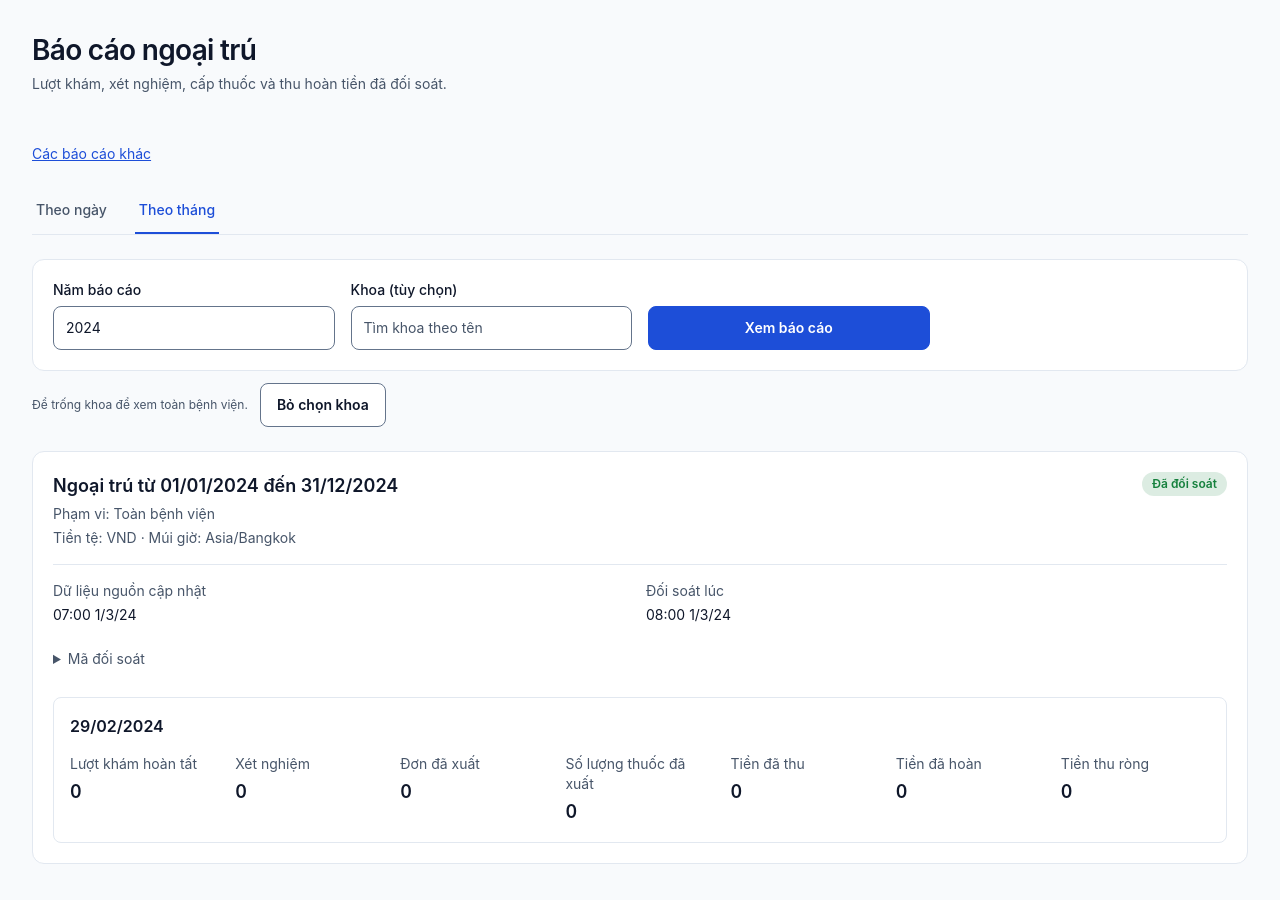
Test case: Outpatient report workspace › warns about an edited year while retaining the loaded monthly result
This screenshot has width=1280, height=900.
Expected: the element named "Kết quả báo cáo ngoại trú" is shown, [32,451,1248,864]
Replace the text in the number field labelled "Năm báo cáo" with "2025": (194, 328) [53,306,334,350]
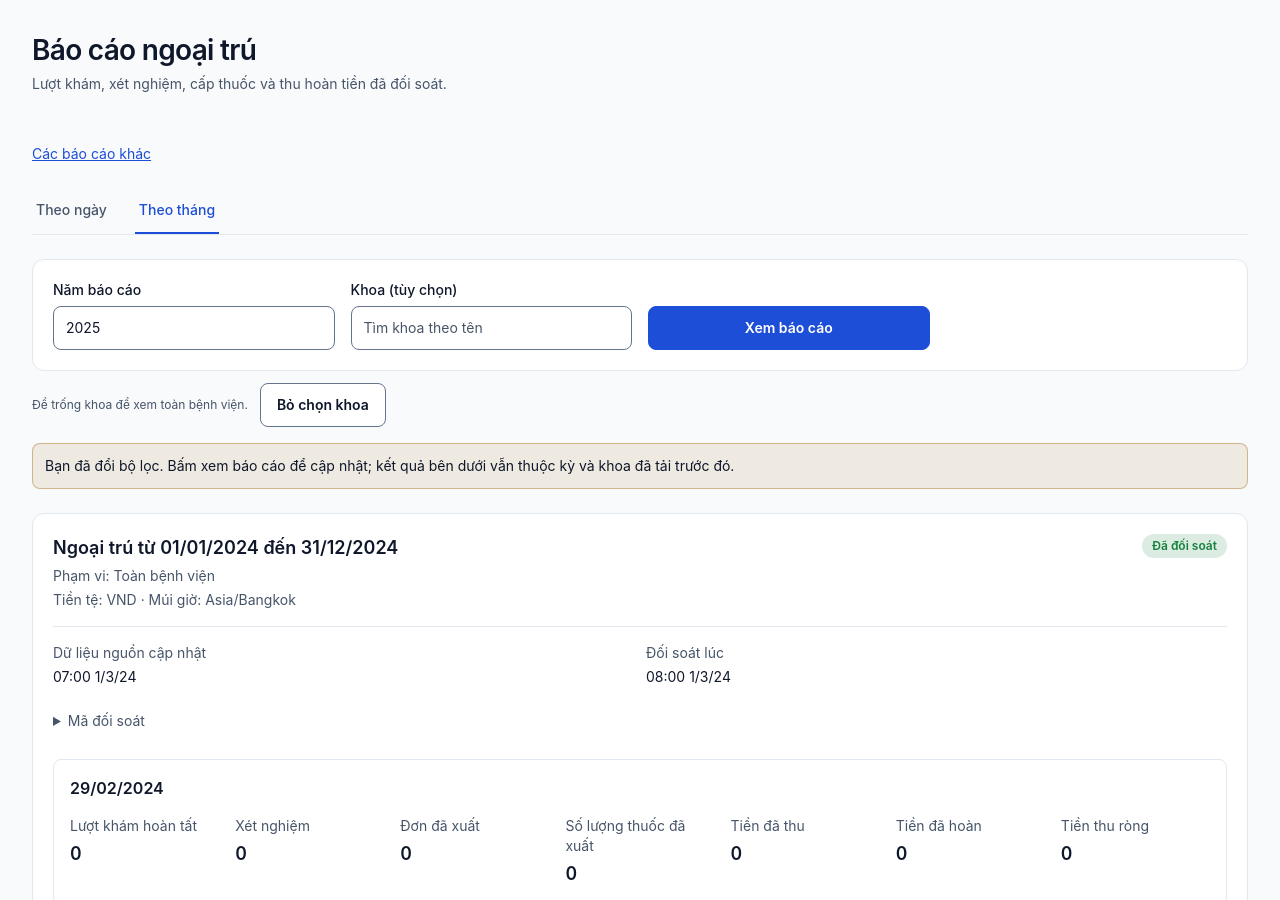
Expected: the text "Bạn đã đổi bộ lọc" is shown, [45,457,734,474]
Replace the text in the number field labelled "Năm báo cáo" with "2024": (194, 328) [53,306,334,350]
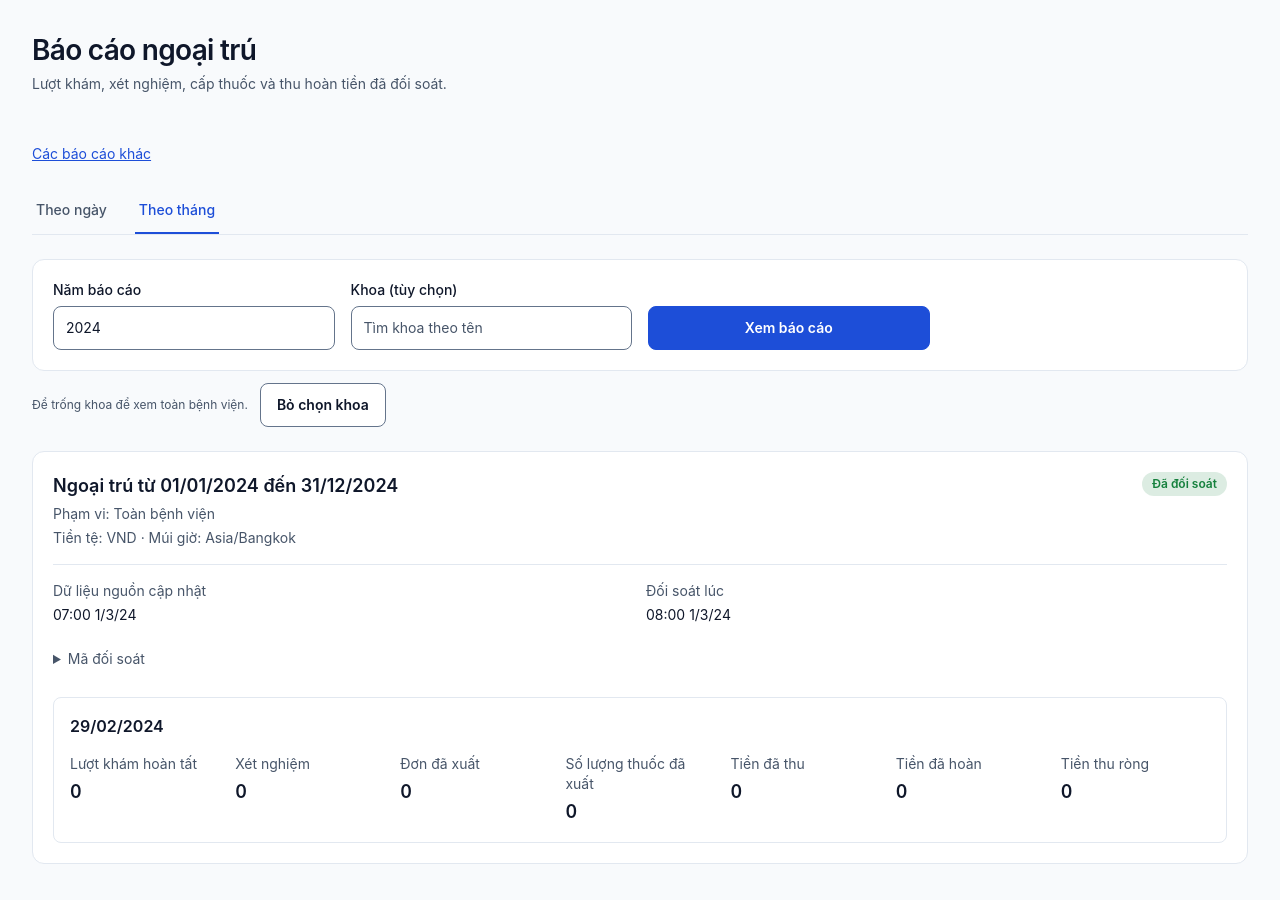
Expected: the text "Bạn đã đổi bộ lọc" is gone
